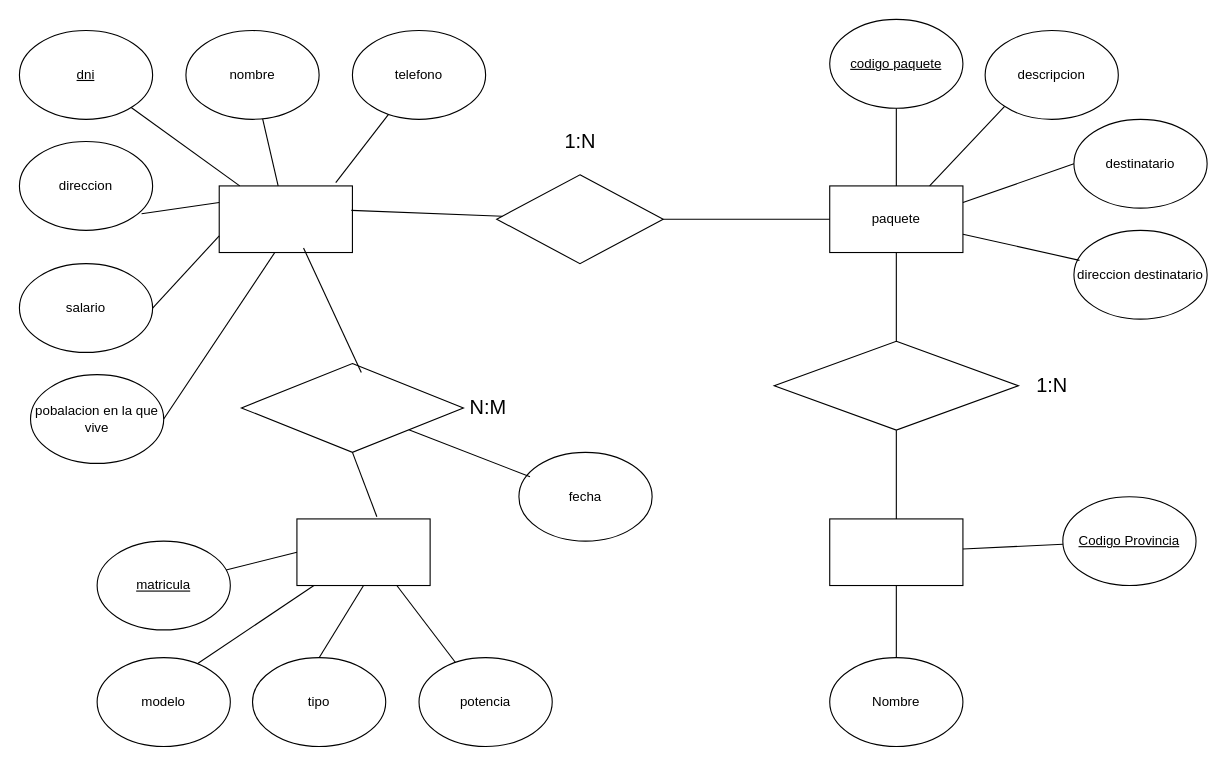
The diagram is 1227 pixels wide and 766 high, and some of its shapes have lost their labels. Each missing label, with the centre of its shape:
"Camioneros" belongs at [285,219].
"camniones" belongs at [363,552].
"conduce" belongs at [351,407].
"Llegan" belongs at [895,385].
"Provincia" belongs at [896,552].
"transportan" belongs at [579,219].
